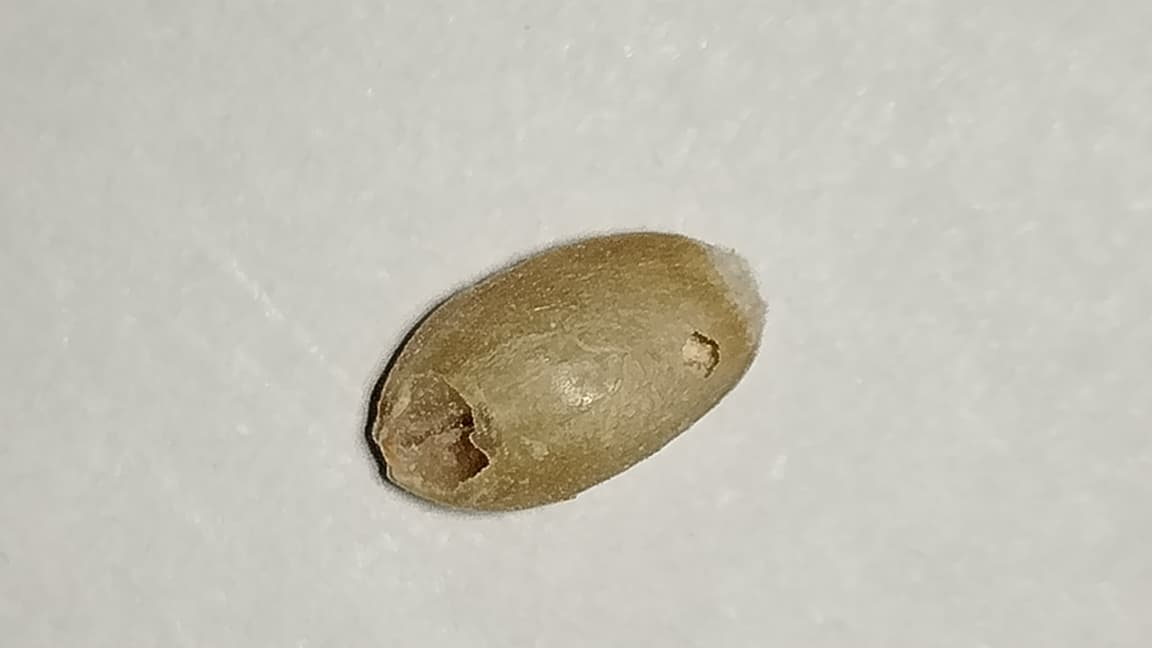damage: (363, 227, 768, 517)
insectdamage: (371, 375, 515, 500), (682, 331, 719, 376)
